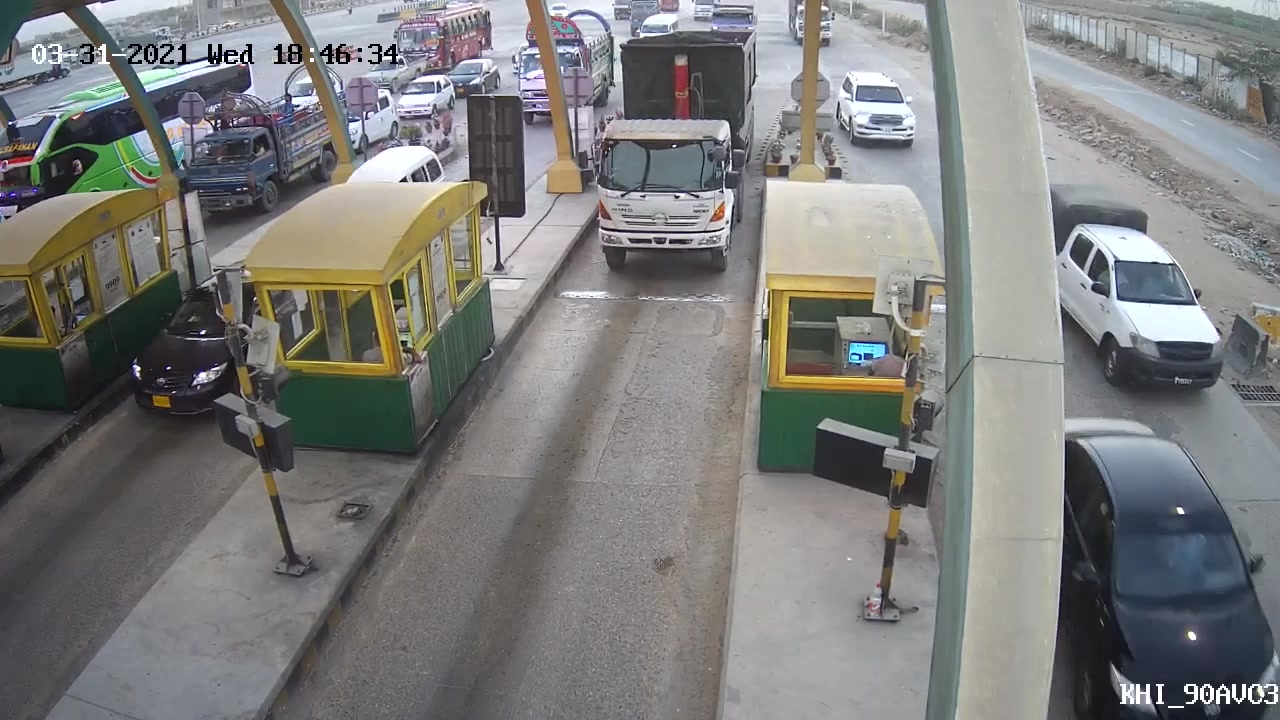F6: (569, 24, 762, 288)
